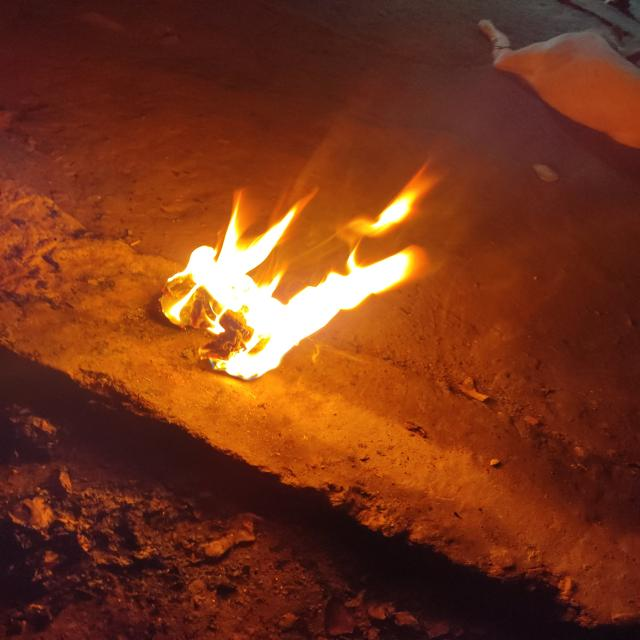firerotation: (160, 152, 454, 381)
